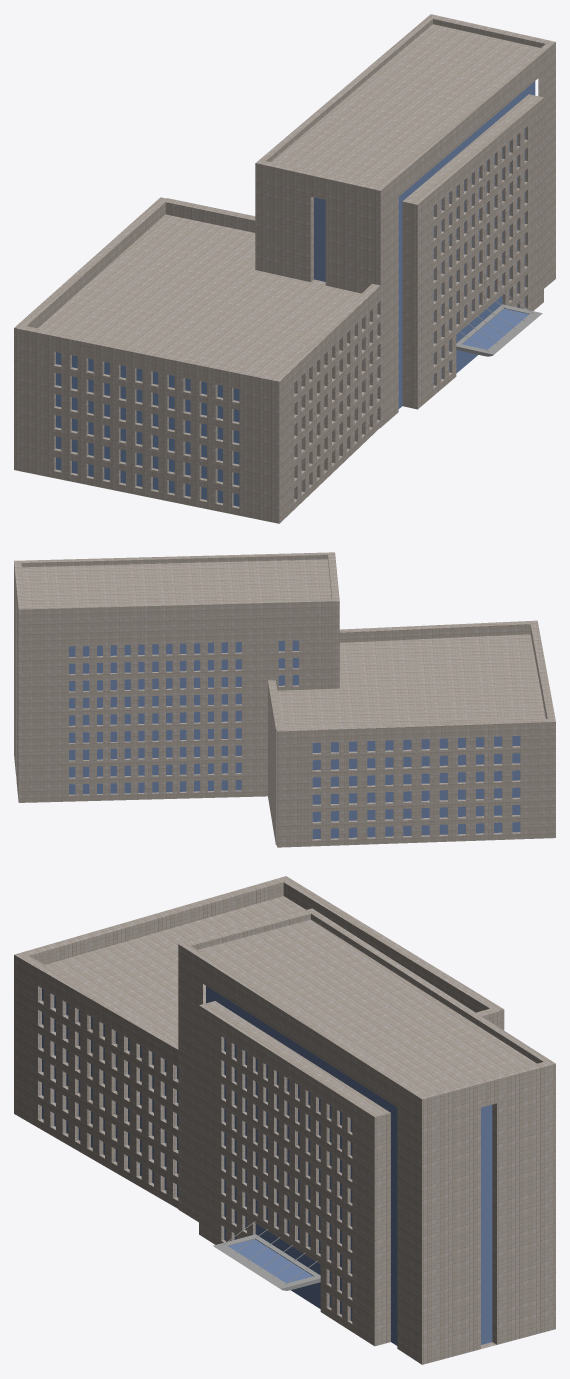
File: yizhuang_jiaojing.glb
The picture shows the model from 3 angles, top to bottom: view 1: azimuth 30°, elevation 25°; view 2: azimuth 150°, elevation 25°; view 3: azimuth 270°, elevation 25°; orthographic projection. The views are drawn at different scales.
Parts seen in each view (by area): view 1: Material #25, 01 - Default, 03 - Default; view 2: Material #25, 01 - Default; view 3: Material #25, 01 - Default, 03 - Default.
Boxes of the visible parts, bbox=[...] form: Material #25: bbox=[14, 14, 555, 523]; 01 - Default: bbox=[56, 81, 535, 506]; 03 - Default: bbox=[456, 292, 542, 356]; Material #25: bbox=[14, 552, 555, 847]; 01 - Default: bbox=[69, 640, 520, 839]; Material #25: bbox=[14, 876, 555, 1364]; 01 - Default: bbox=[42, 986, 492, 1345]; 03 - Default: bbox=[213, 1221, 320, 1290].
Size of the model in its own units: 98.43 by 37 by 68.45.
3 materials, 1 textured.
